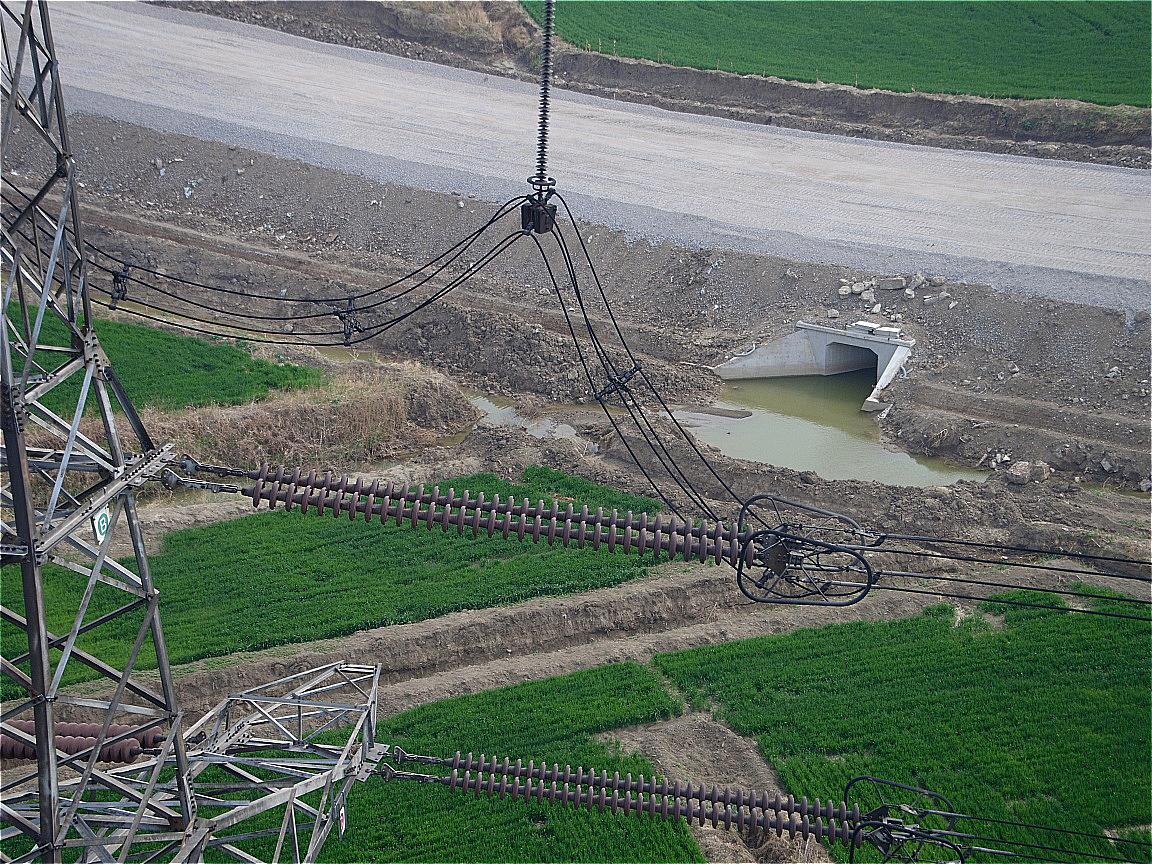insultor1: (236, 446, 780, 586), (431, 733, 891, 856)
